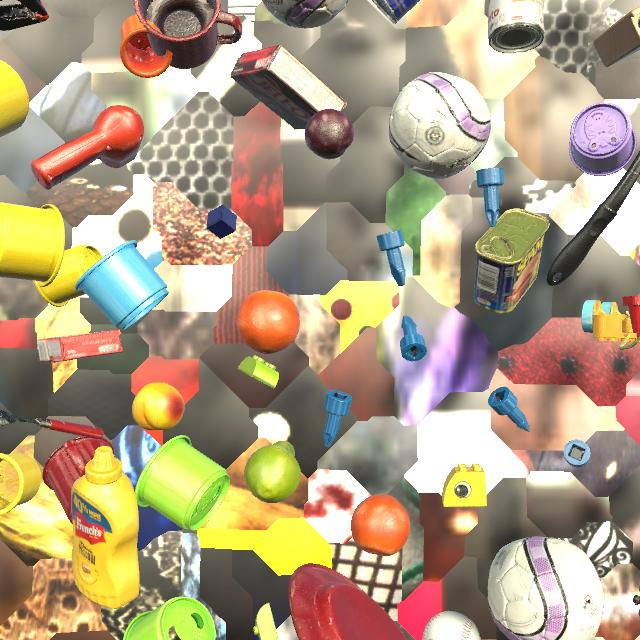ycb_002_master_chef_can: (372, 0, 420, 24)
ycb_005_tomato_soup_can: (488, 0, 545, 54)
ycb_006_mustard_bottle: (71, 446, 140, 609)
ycb_008_pudding_box: (230, 45, 347, 130)
ycb_009_gelatin_box: (37, 330, 123, 363)
ycb_010_potted_meat_can: (474, 208, 549, 314)
ycb_015_peach: (132, 382, 185, 431)
ycb_016_pear: (244, 440, 301, 503)
ycb_017_orange: (236, 290, 300, 354), (351, 494, 410, 556)
ycb_018_plum: (305, 109, 354, 159)
